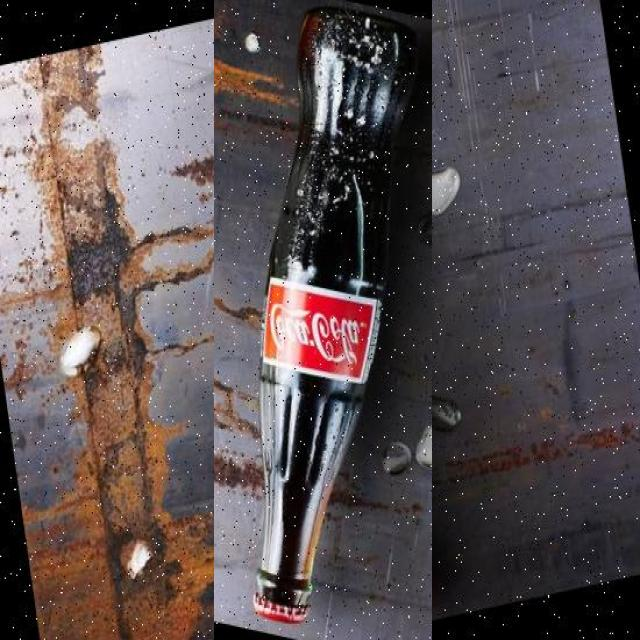coca-cola: (214, 0, 432, 640)
